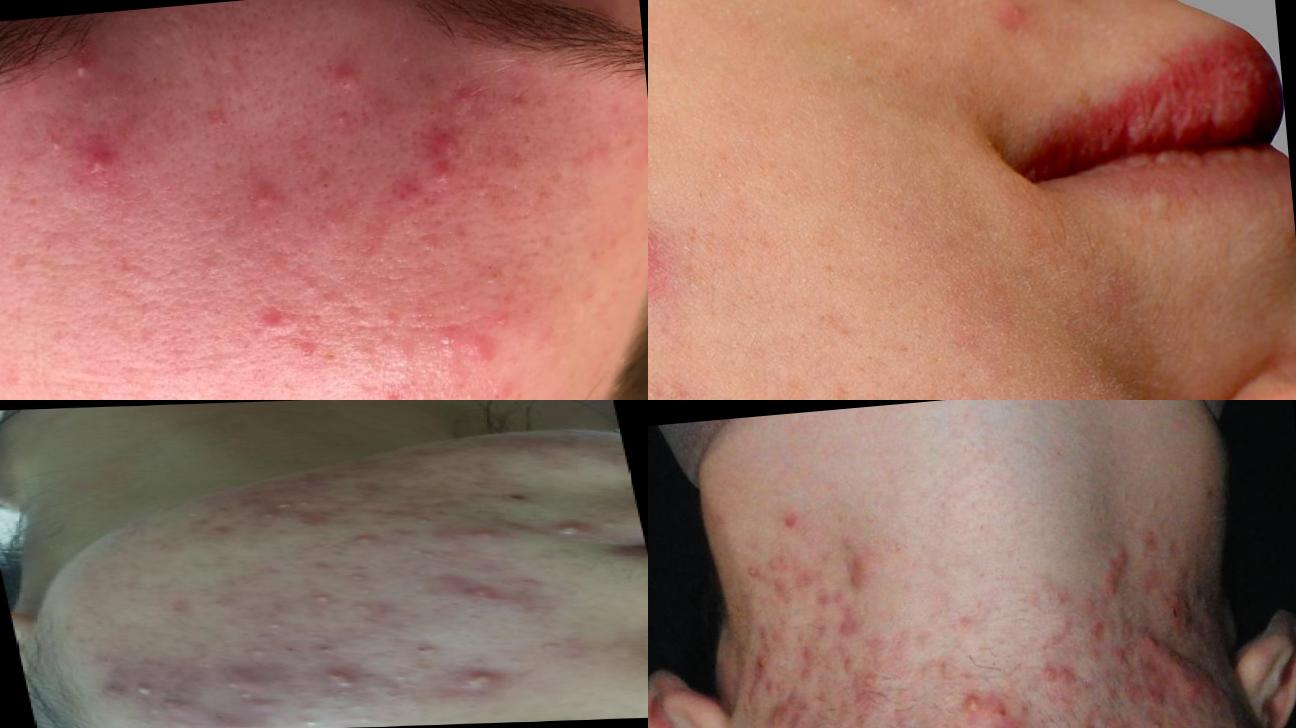cystic: (201, 669, 285, 713)
folliculitis: (1026, 648, 1102, 699), (940, 673, 1003, 728), (736, 551, 772, 587), (1136, 704, 1187, 728)
keloid: (1141, 623, 1238, 715)
papular: (71, 125, 141, 192), (420, 118, 486, 184), (245, 159, 298, 219), (330, 46, 378, 104), (444, 75, 507, 113), (459, 331, 519, 369), (307, 162, 351, 203), (326, 531, 406, 553), (383, 166, 434, 200), (284, 267, 324, 307), (450, 525, 517, 547), (192, 519, 249, 541), (308, 642, 350, 659)
purulent: (649, 186, 682, 305), (255, 496, 326, 522), (315, 667, 371, 698), (65, 50, 104, 87), (291, 587, 353, 610), (252, 613, 301, 641), (41, 119, 68, 165), (552, 517, 598, 544), (449, 668, 498, 692), (129, 679, 178, 699)
sebo-crystan-conglo: (445, 579, 519, 608)
whitehead: (400, 543, 449, 568), (375, 668, 424, 692), (528, 633, 575, 658), (281, 713, 333, 728), (588, 516, 631, 532), (340, 573, 389, 586), (576, 449, 607, 467)
